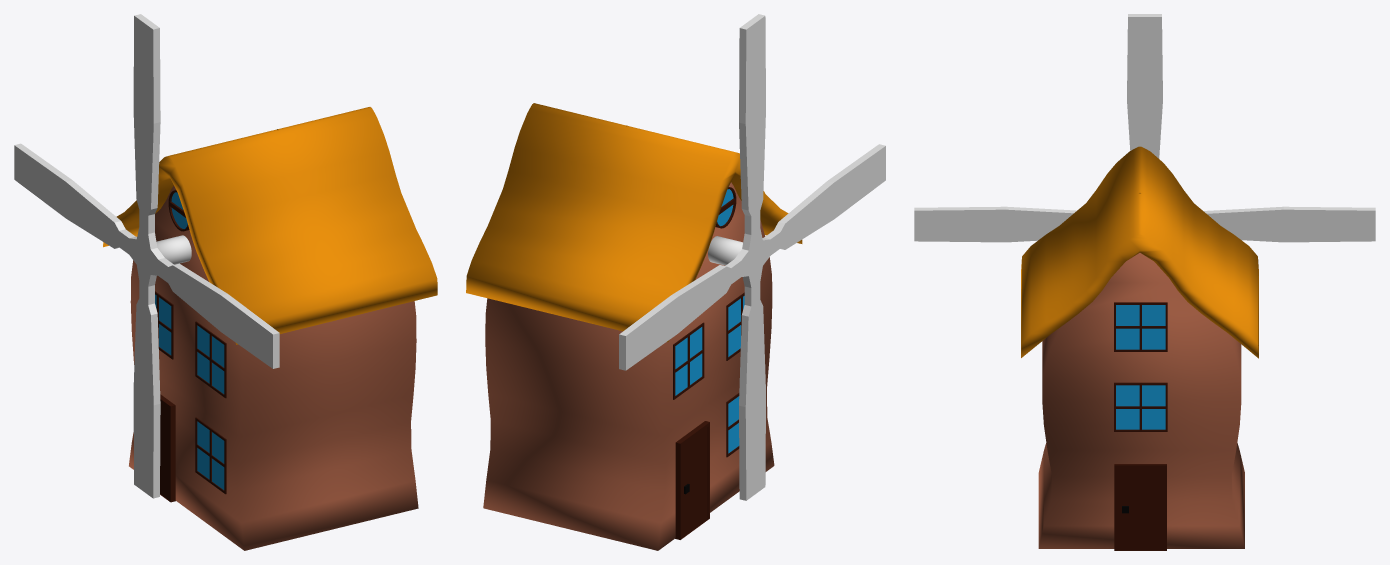
The model's file is House2.fbx.
The picture shows the model from 3 angles, left to right: view 1: azimuth 30°, elevation 25°; view 2: azimuth 150°, elevation 25°; view 3: azimuth 270°, elevation 25°; orthographic projection. The views are drawn at different scales.
Parts seen in each view (by area): view 1: Cube.005, Cube.006, Cube.008, Cube.004, Cube.007, Cube.003, Cube.009, Cylinder, Circle.001; view 2: Cube.005, Cube.006, Cube.008, Cube.003, Cube.009, Cube.007, Cylinder, Cube.004, Circle.001; view 3: Cube.005, Cube.006, Cube.008, Cube.010, Cube.011, Cube.012.
Part boxes in pixels (x1,y1,x2,y2): Cube.005: (129, 186, 418, 550); Cube.006: (103, 107, 437, 344); Cube.008: (14, 14, 279, 498); Cube.004: (195, 417, 226, 494); Cube.007: (195, 321, 226, 398); Cube.003: (160, 394, 175, 502); Cube.009: (155, 291, 173, 359); Cylinder: (156, 235, 191, 264); Circle.001: (168, 190, 189, 231); Cube.005: (483, 182, 774, 550); Cube.006: (466, 103, 802, 342); Cube.008: (619, 14, 885, 500); Cube.003: (675, 421, 709, 539); Cube.009: (673, 322, 704, 399); Cube.007: (726, 292, 744, 360); Cylinder: (708, 236, 742, 265); Cube.004: (726, 393, 739, 457); Circle.001: (715, 187, 736, 228); Cube.005: (1038, 253, 1244, 548); Cube.006: (1021, 146, 1258, 358); Cube.008: (914, 14, 1375, 242); Cube.010: (1114, 464, 1166, 550); Cube.011: (1114, 382, 1167, 431); Cube.012: (1114, 302, 1167, 351).
Bounding box in the file's own units: 490 × 1033 × 978.
